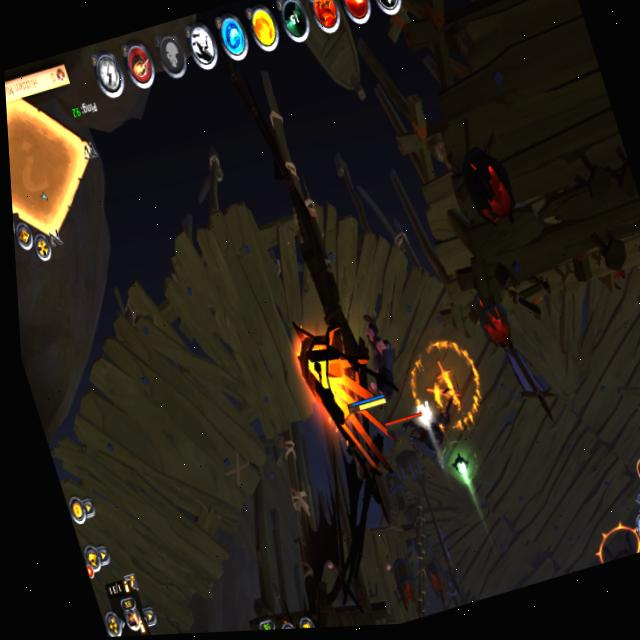ore: (342, 296, 424, 432), (588, 515, 640, 564)
red: (315, 296, 390, 419)
stone: (409, 392, 435, 427)
